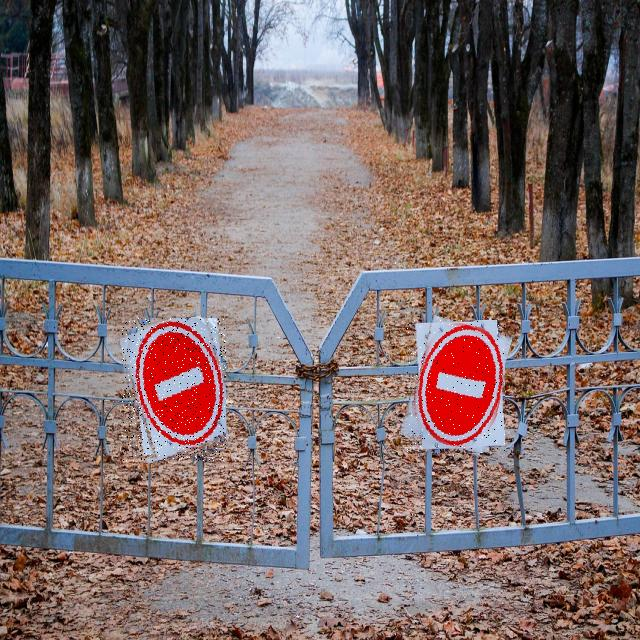no entry: (122, 318, 226, 461), (407, 320, 505, 453)
